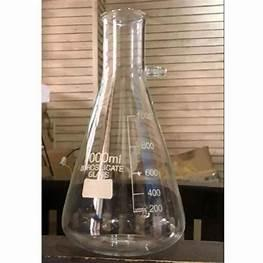Titrarion: (62, 16, 186, 252)
